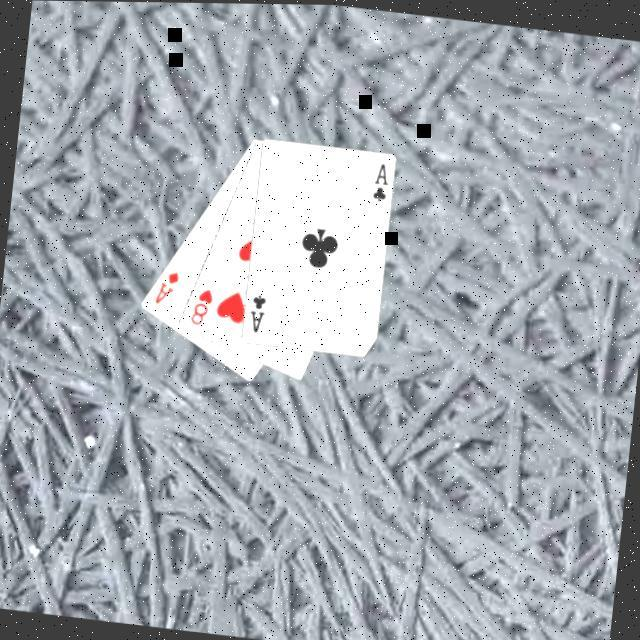8H: (188, 281, 218, 327)
AC: (247, 289, 271, 335), (370, 157, 394, 203)
AD: (152, 264, 184, 308)
